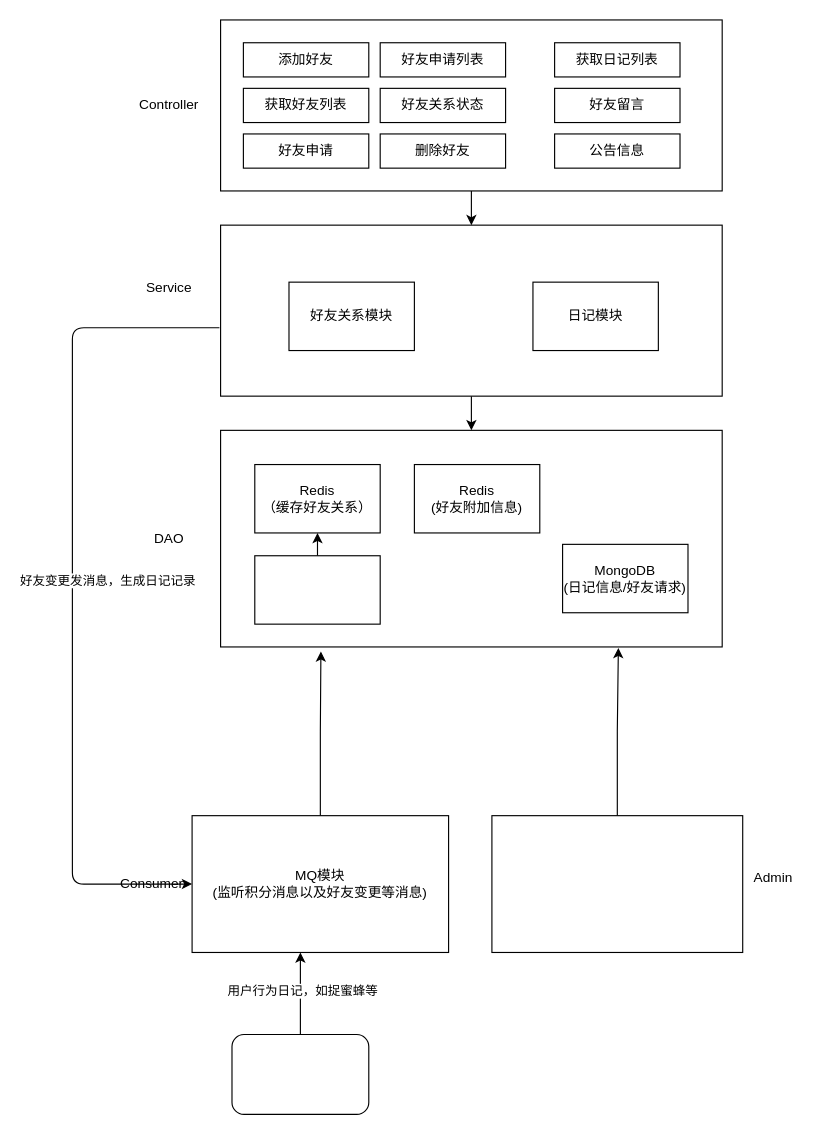
The diagram is 822 pixels wide and 1134 high, and some of its shapes have lost their labels. The shapes that lost their labels are listed below. From the top down, each one's centre as x and y in pixels, then its label:
(317,589): Mysql （好友关系）
(617,883): Admin模块 (配置日记文案以及公告信息)
(300,1073): 积分系统
